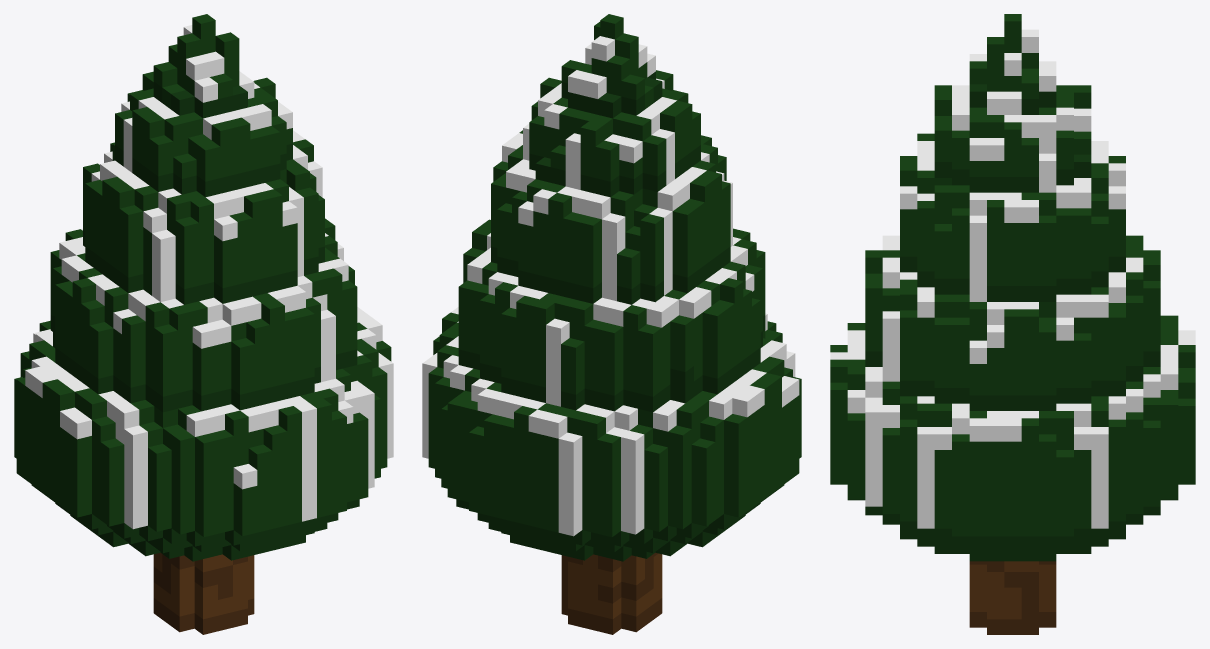
The model's file is Sapin_3_neige.obj.
3 views of the same model, side by side, from view 1: azimuth 30°, elevation 25°; view 2: azimuth 150°, elevation 25°; view 3: azimuth 270°, elevation 25° (orthographic).
Bounding box in the file's own units: 21 × 38 × 21.
1 material, 1 textured.
